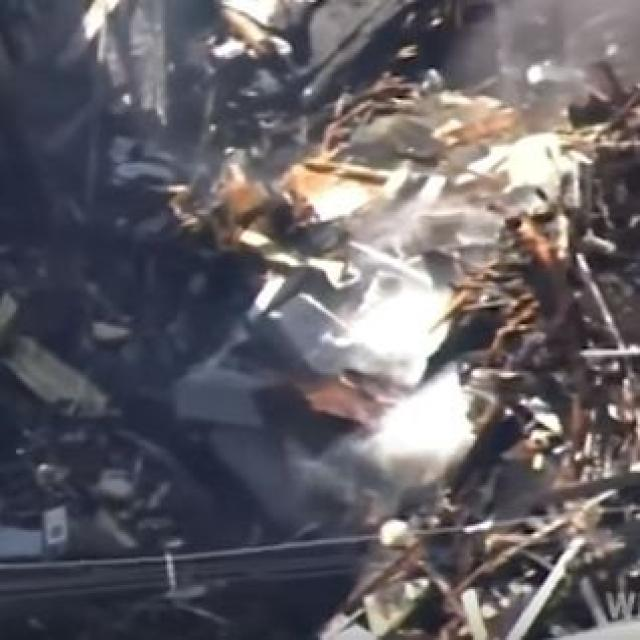collapsed_building: (233, 41, 638, 554), (0, 0, 231, 409)
